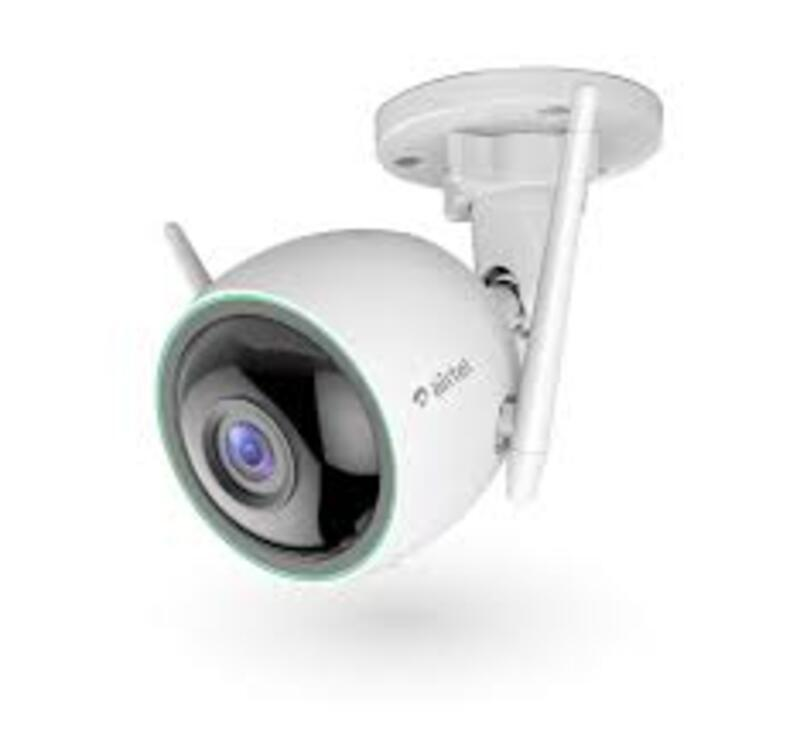bullet: (127, 202, 540, 588)
